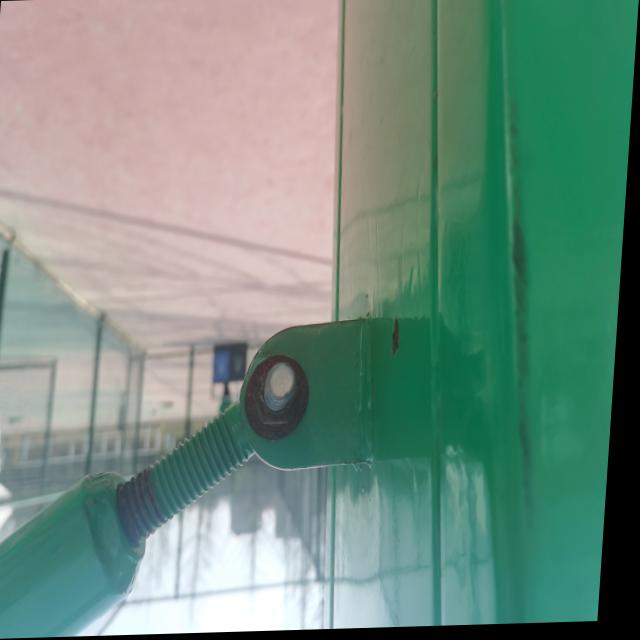Rusty bolt: (259, 362, 310, 427)
